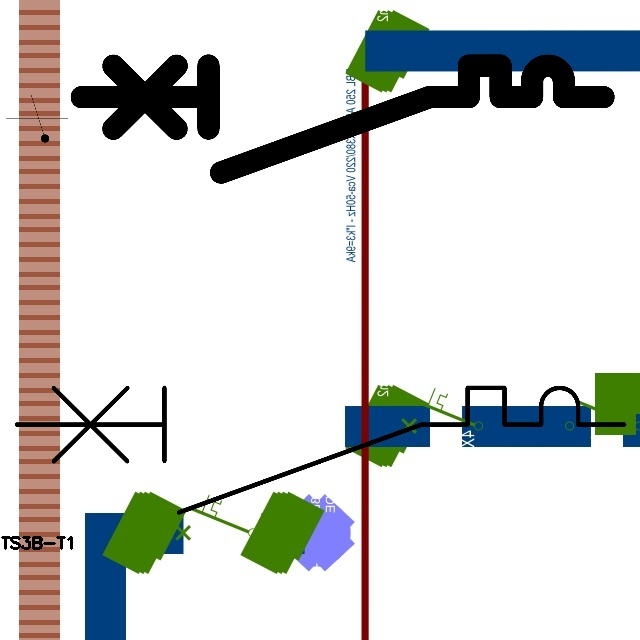interruptor_termomagnetico: (1, 372, 640, 528), (68, 52, 617, 186)
